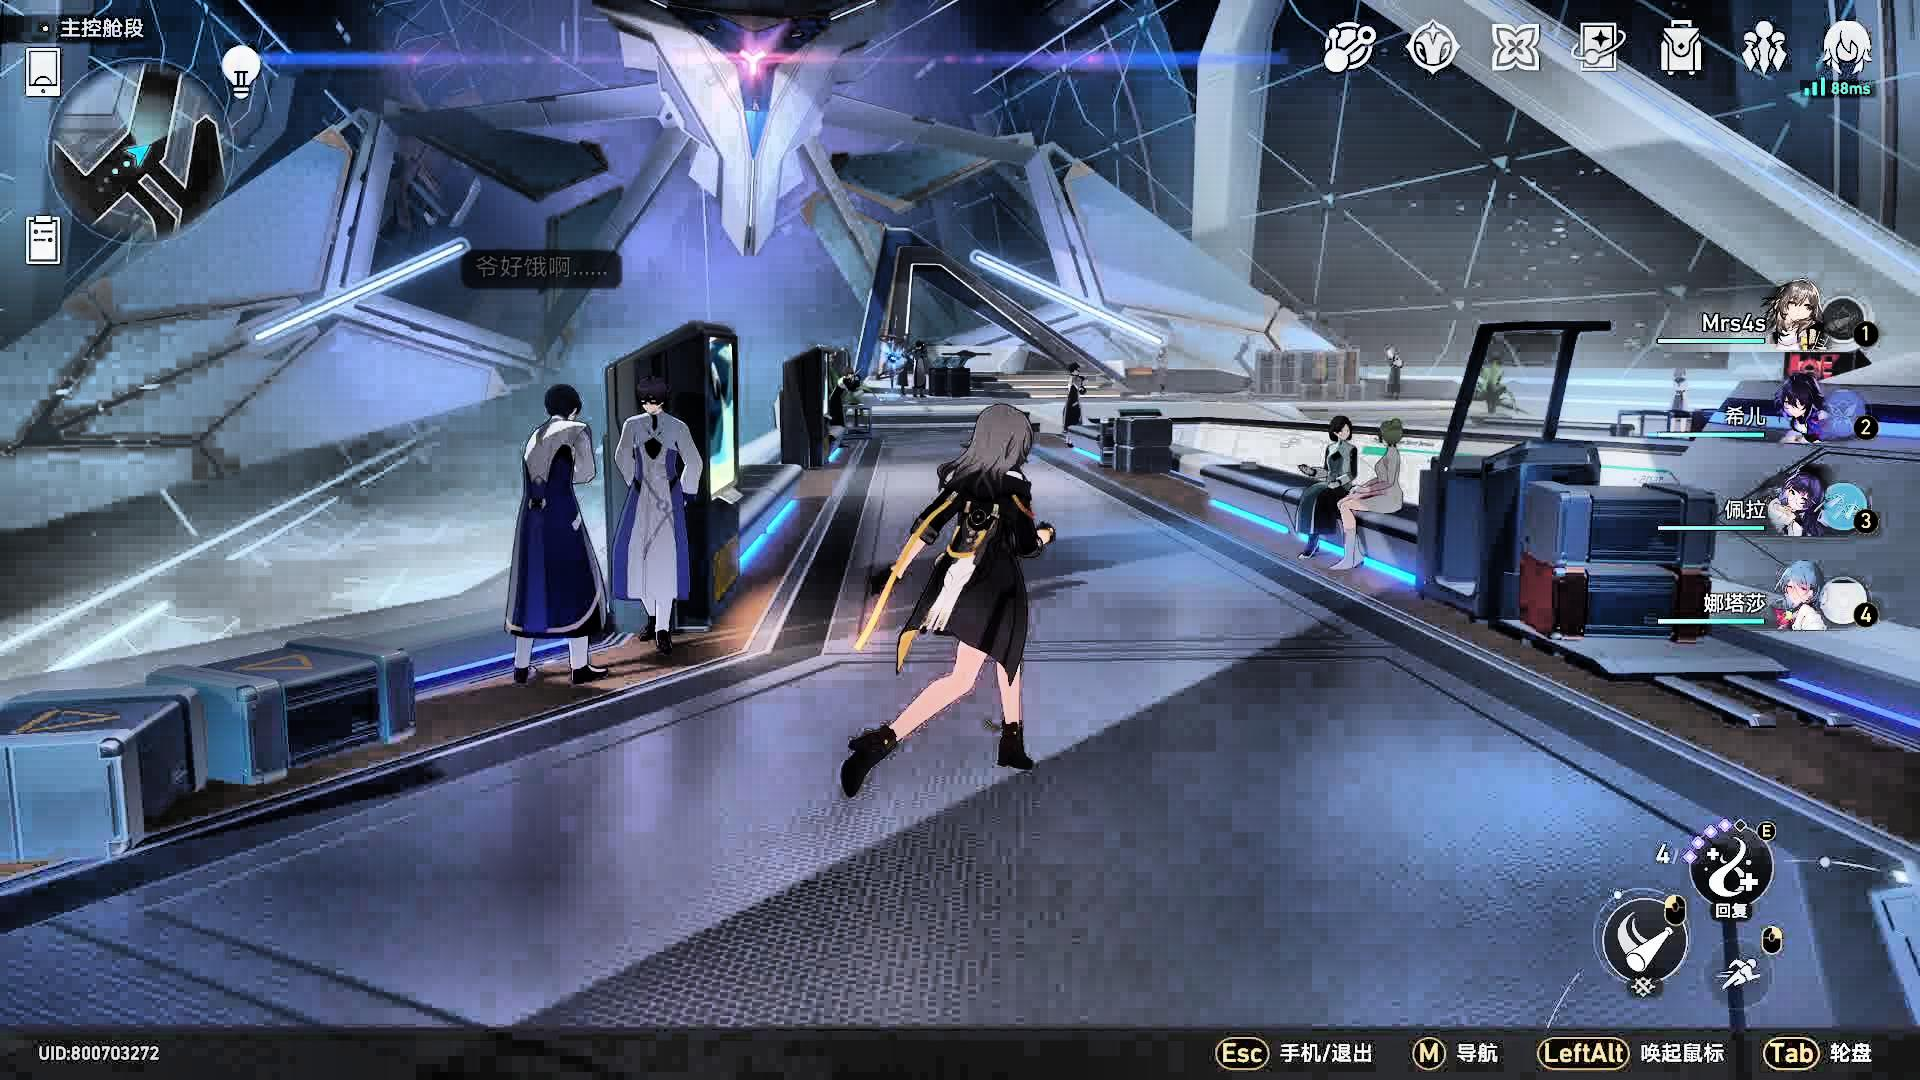Self: (843, 400, 1050, 818)
TeamMate: (509, 384, 603, 691), (612, 378, 709, 657), (1335, 413, 1404, 568), (1298, 414, 1357, 563), (1058, 349, 1088, 446)
